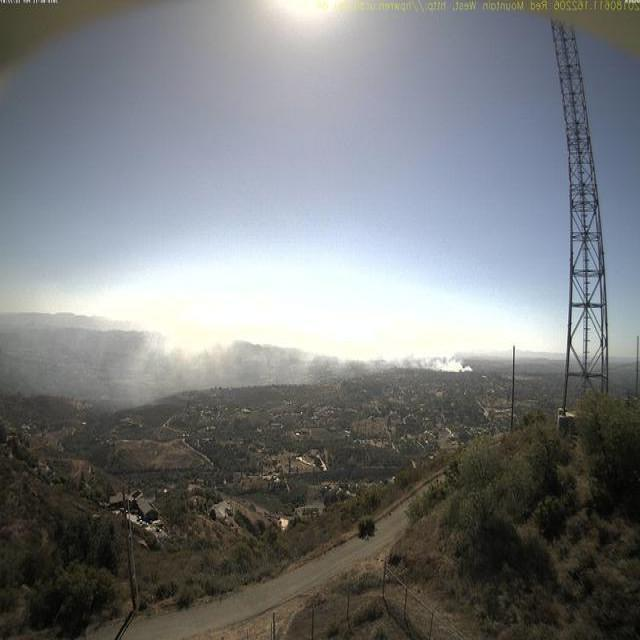Smoke: (122, 306, 476, 402)
